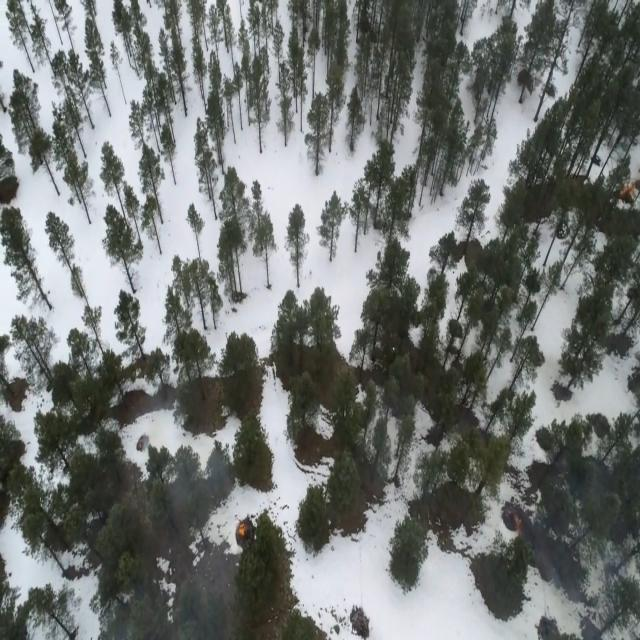Fire: (235, 524, 251, 542)
